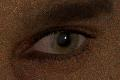eye: (51, 32, 79, 54)
